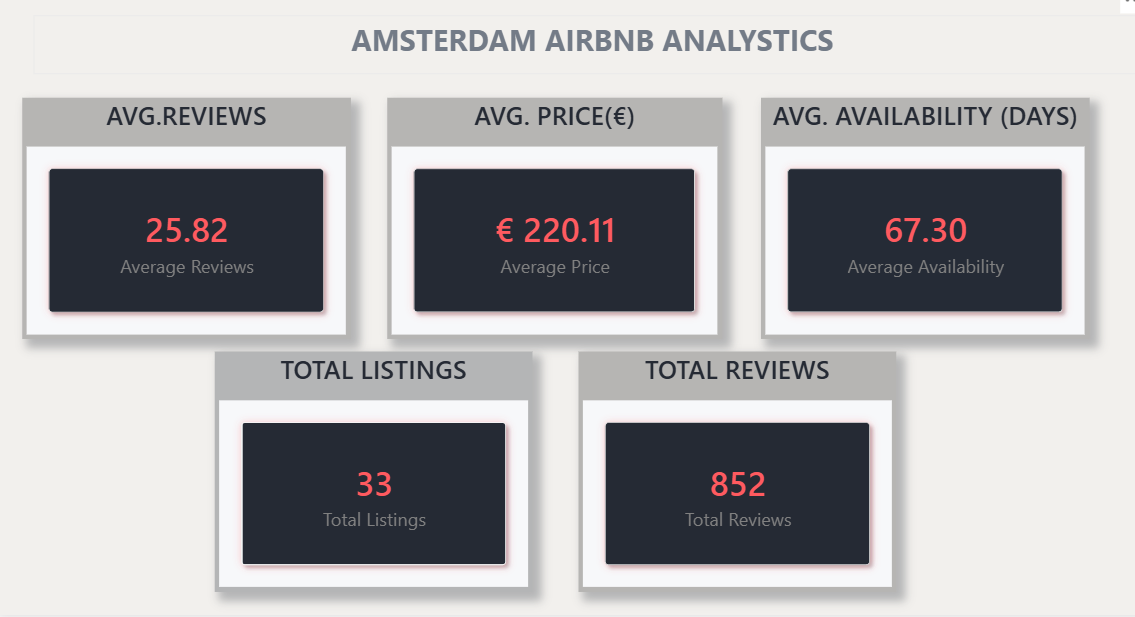

The page's visual inventory and layout, read from the dashboard file:
{"tool":"powerbi","page":{"name":"Page 1","canvas":[1280,720],"ordinal":0},"visuals":[{"type":"cardVisual","title":"AVG. AVAILABILITY (DAYS)","fields":{"Data":["Airbnb_Data.Average Availability"]},"box":[839.8,152.3,360.9,264.8],"z":0},{"type":"textbox","box":[40.9,61.3,1227.2,64.7],"z":3000},{"type":"cardVisual","title":"AVG. PRICE(€)","fields":{"Data":["Airbnb_Data.Average Price"]},"box":[429.5,152.3,367.8,264.8],"z":4000},{"type":"cardVisual","title":"AVG.REVIEWS","fields":{"Data":["Airbnb_Data.Average Reviews"]},"box":[28.8,152.3,360.9,264.8],"z":5000},{"type":"cardVisual","title":"TOTAL REVIEWS","fields":{"Data":["Airbnb_Data.Total Reviews"]},"box":[639.5,430.9,349,264],"z":6000},{"type":"cardVisual","title":"TOTAL LISTINGS","fields":{"Data":["Airbnb_Data.TOTAL LISTINGS"]},"box":[240.1,430.9,349,264],"z":7000}]}

Visuals, with their boxes on the page's 1280x720 design canvas (x1, y1, x2, y2). These are canvas units, not pixel positions in the 1135x617 screenshot, which may show the page scaled, cropped or inside an application window:
"AVG. AVAILABILITY (DAYS)" cardVisual: select_region(840, 152, 1201, 417)
textbox: select_region(41, 61, 1268, 126)
"AVG. PRICE(€)" cardVisual: select_region(430, 152, 797, 417)
"AVG.REVIEWS" cardVisual: select_region(29, 152, 390, 417)
"TOTAL REVIEWS" cardVisual: select_region(640, 431, 988, 695)
"TOTAL LISTINGS" cardVisual: select_region(240, 431, 589, 695)
